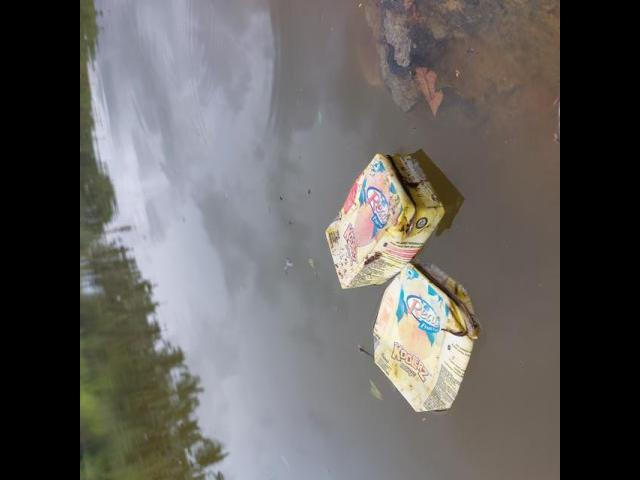Box: (322, 142, 450, 296), (369, 251, 484, 416)
